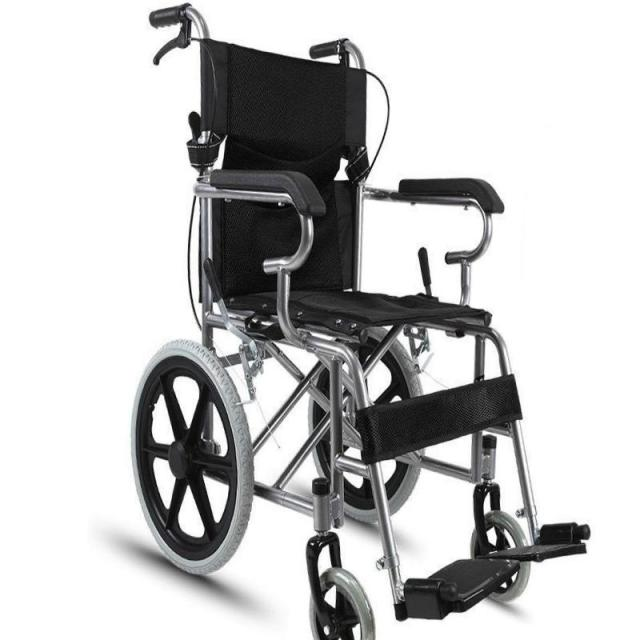wheelchair: (121, 0, 601, 640)
